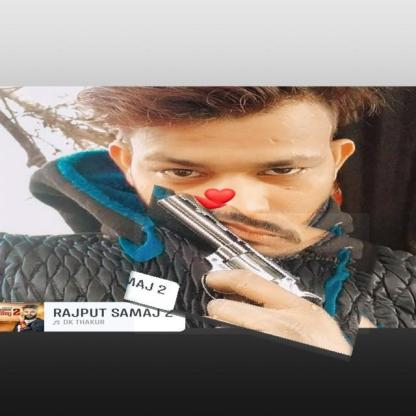handgun: (129, 199, 375, 348)
